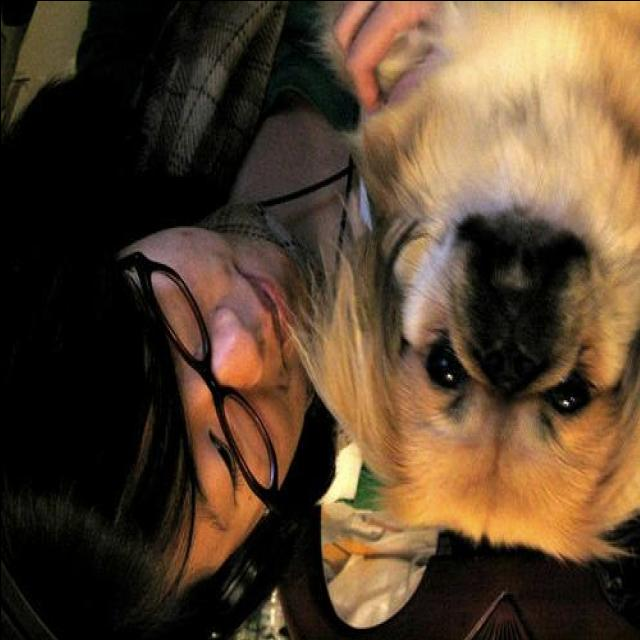pekinese: (289, 4, 631, 558)
